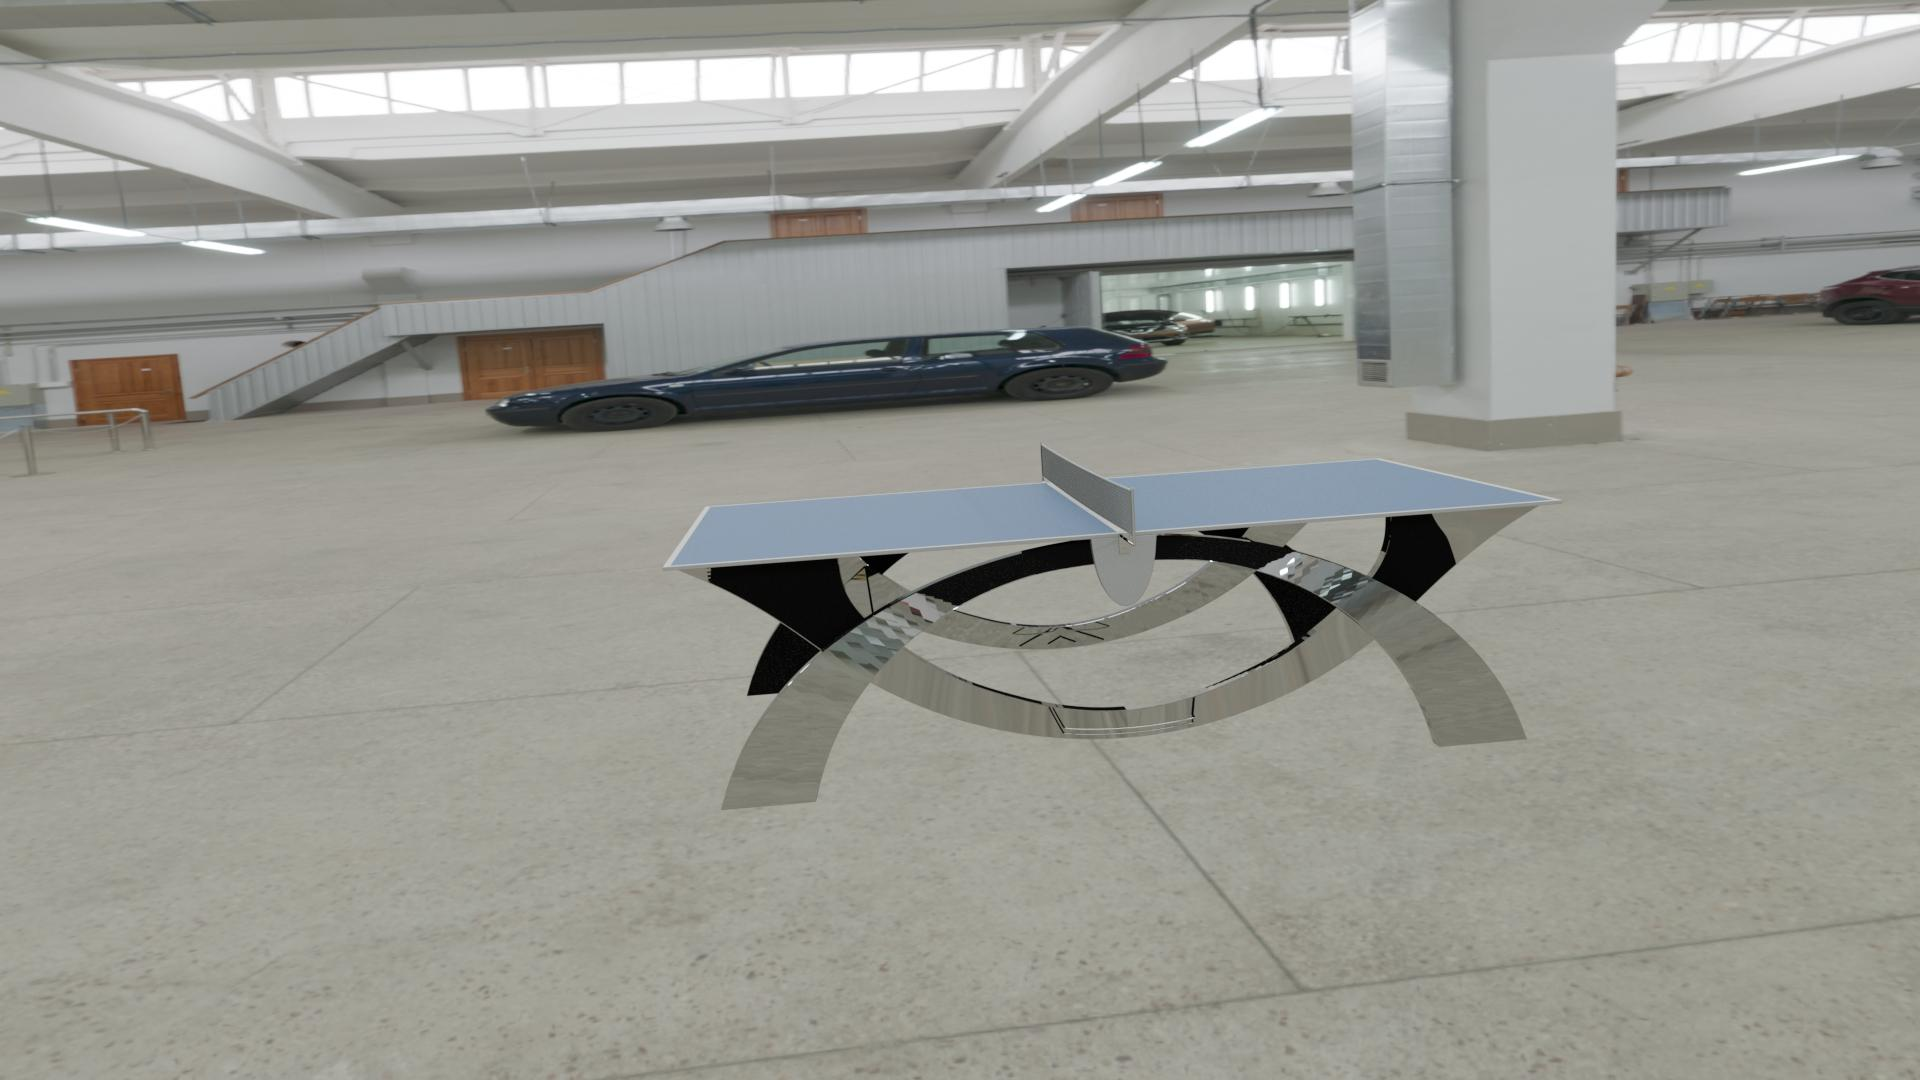table: (670, 459, 1553, 566)
